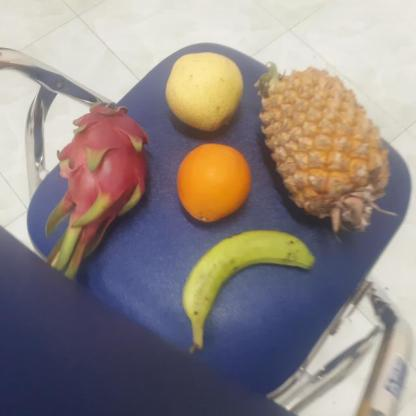banana: (181, 228, 307, 332)
orange: (173, 143, 251, 222)
pear: (162, 52, 250, 131)
pitaya: (56, 105, 150, 219)
